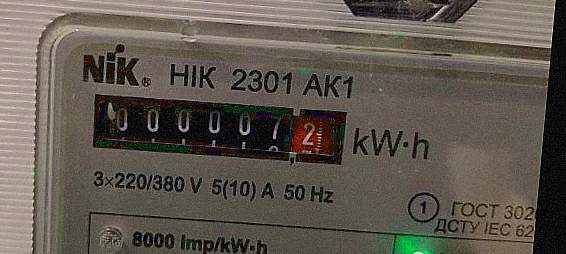0: (173, 106, 193, 135), (143, 105, 162, 135), (112, 104, 131, 133), (235, 109, 253, 138), (205, 107, 222, 135)
2: (299, 119, 318, 149)
7: (264, 112, 283, 143)
screen: (81, 80, 359, 176)
